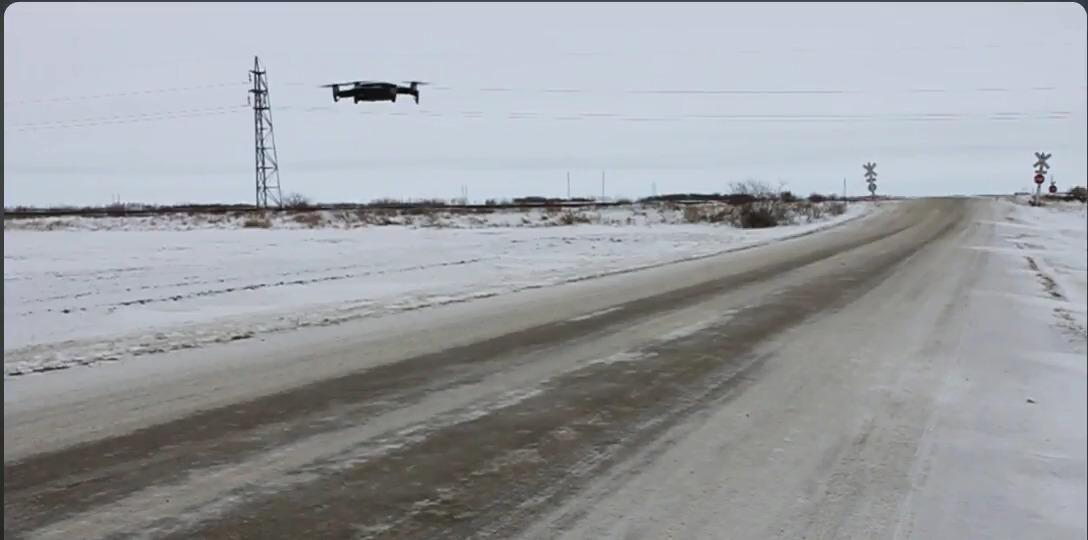dr: (320, 77, 439, 107)
